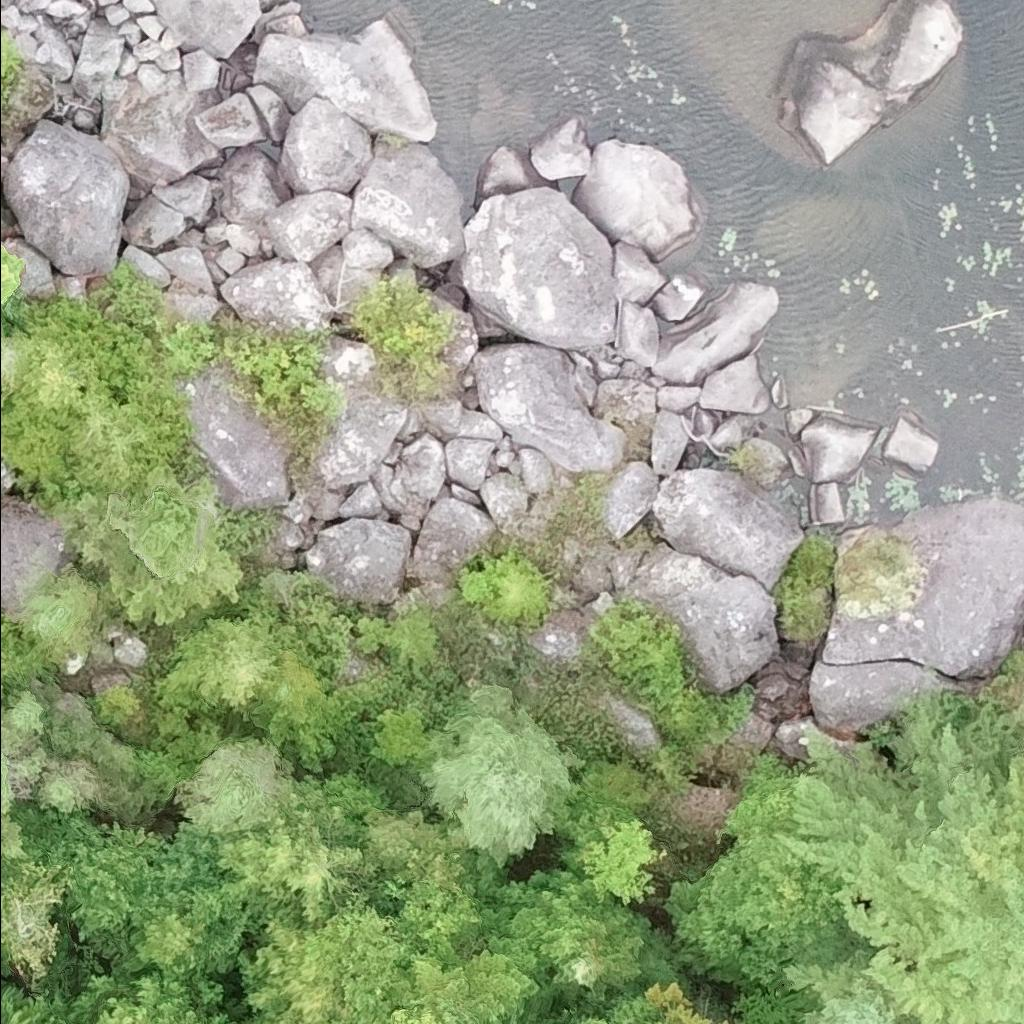crown: (772, 701, 1023, 1023), (665, 820, 858, 989), (416, 684, 583, 870), (216, 771, 366, 934), (156, 612, 295, 721), (0, 685, 80, 873), (548, 914, 687, 1021), (555, 791, 670, 907), (317, 887, 414, 1023), (249, 648, 354, 768), (236, 918, 352, 1023), (66, 817, 163, 942), (174, 735, 294, 833), (118, 901, 213, 981), (93, 969, 225, 1023), (644, 981, 732, 1023), (569, 989, 667, 1023), (0, 988, 80, 1023), (800, 994, 894, 1023), (0, 243, 24, 307), (393, 1003, 444, 1023), (0, 858, 3, 875)
